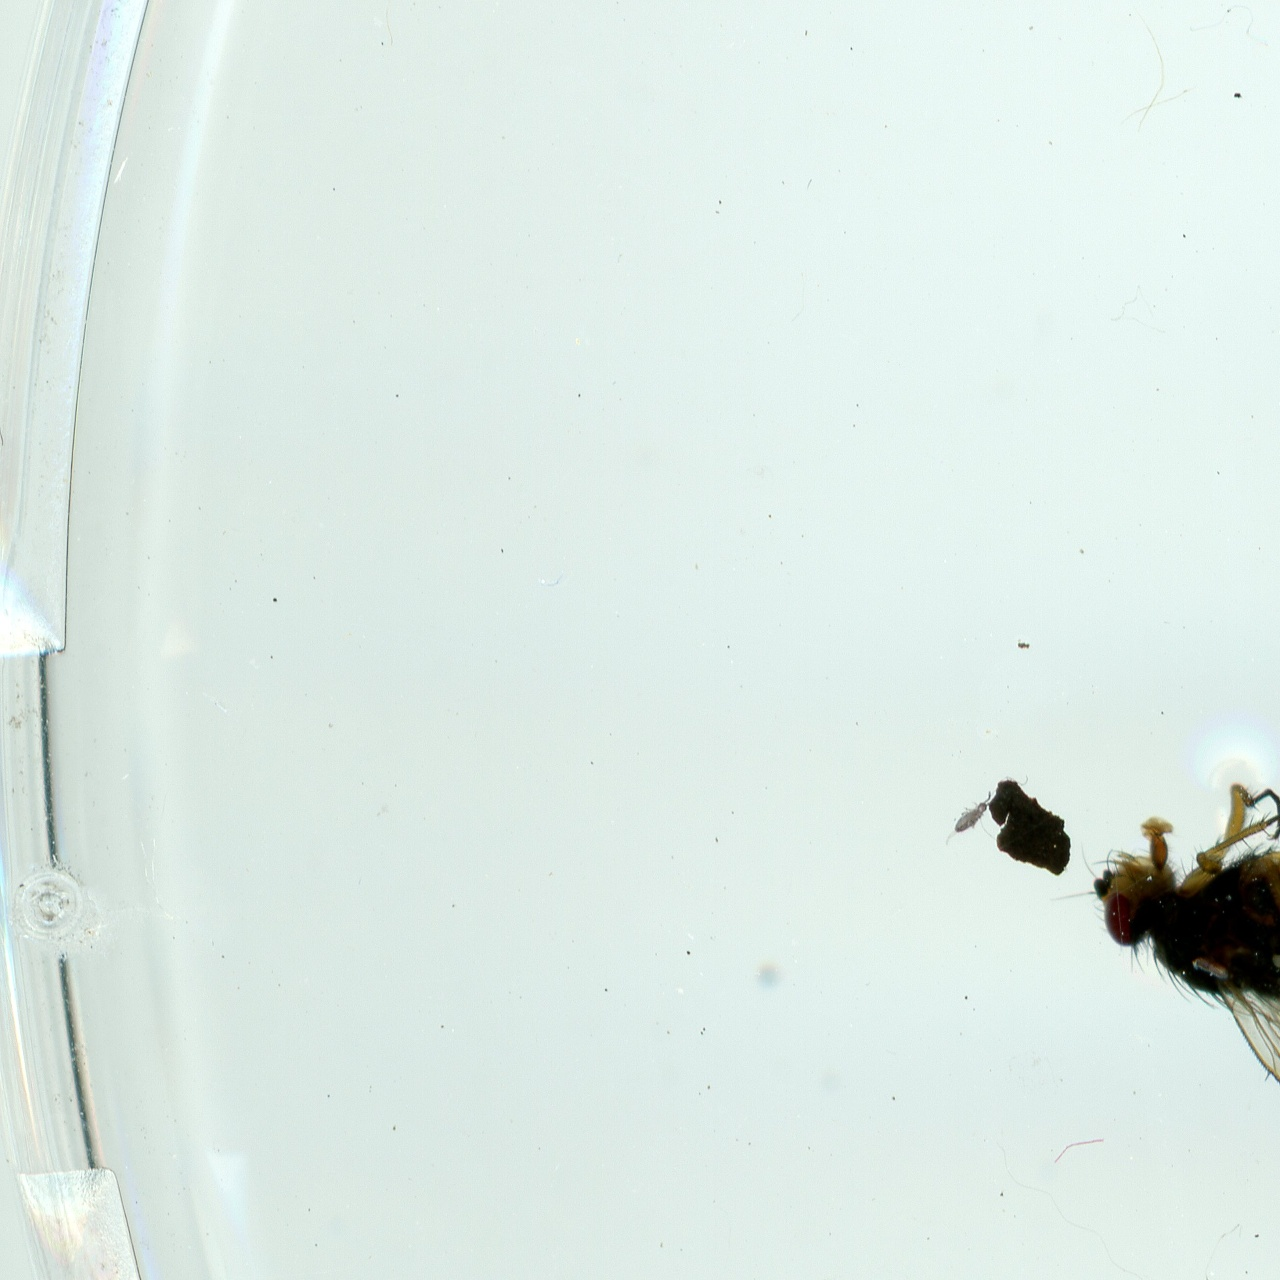arthropod: (1048, 709, 1280, 1214), (933, 776, 1007, 863)
